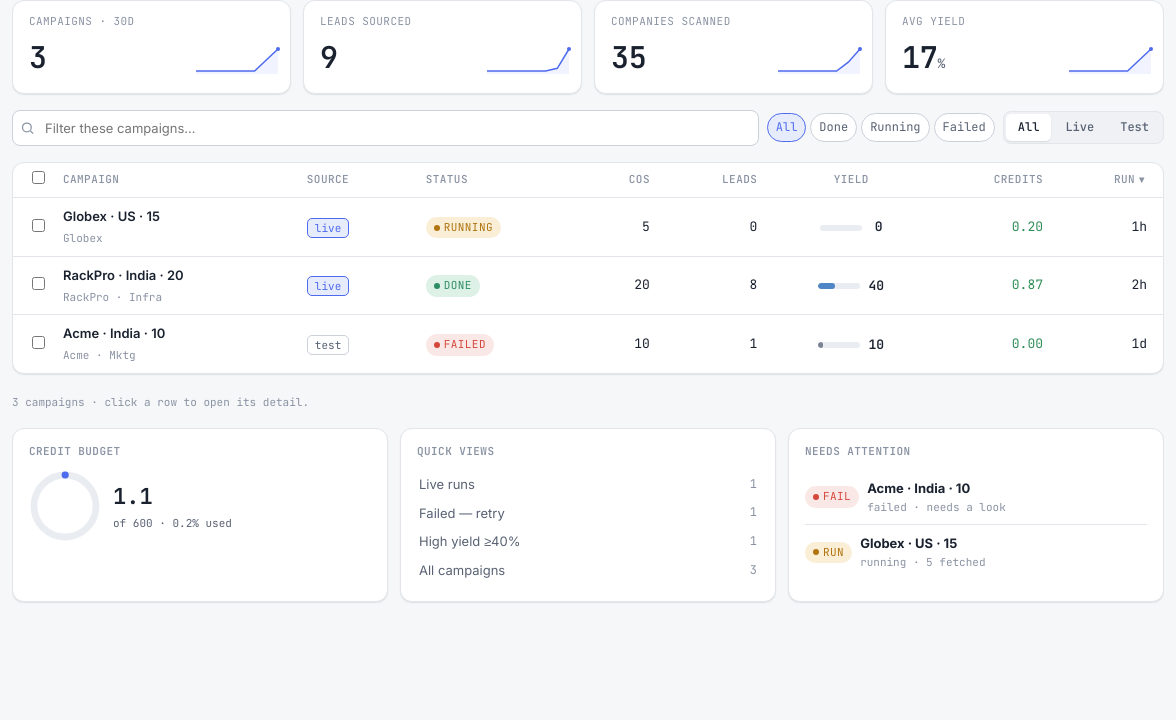
Test: CampaignListView › filters by the search box (label or vendor)
Type "globex" into the field labelled "Filter these campaigns…" at (385, 128), box x1=12 y1=110 x2=759 y2=146
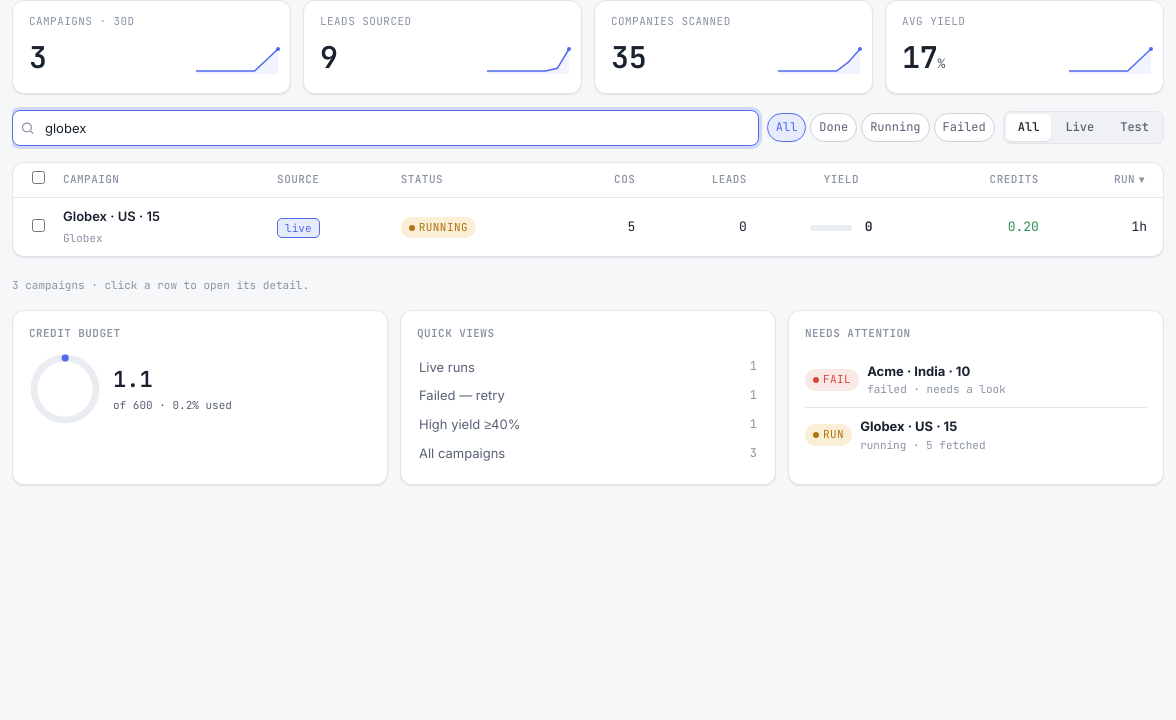
Expected: the link "Globex · US · 15" is shown, x1=63 y1=208 x2=160 y2=224
Result: the link "RackPro" is gone
